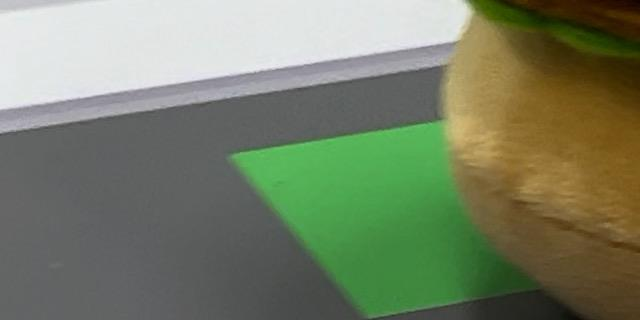burger: (396, 0, 640, 320)
